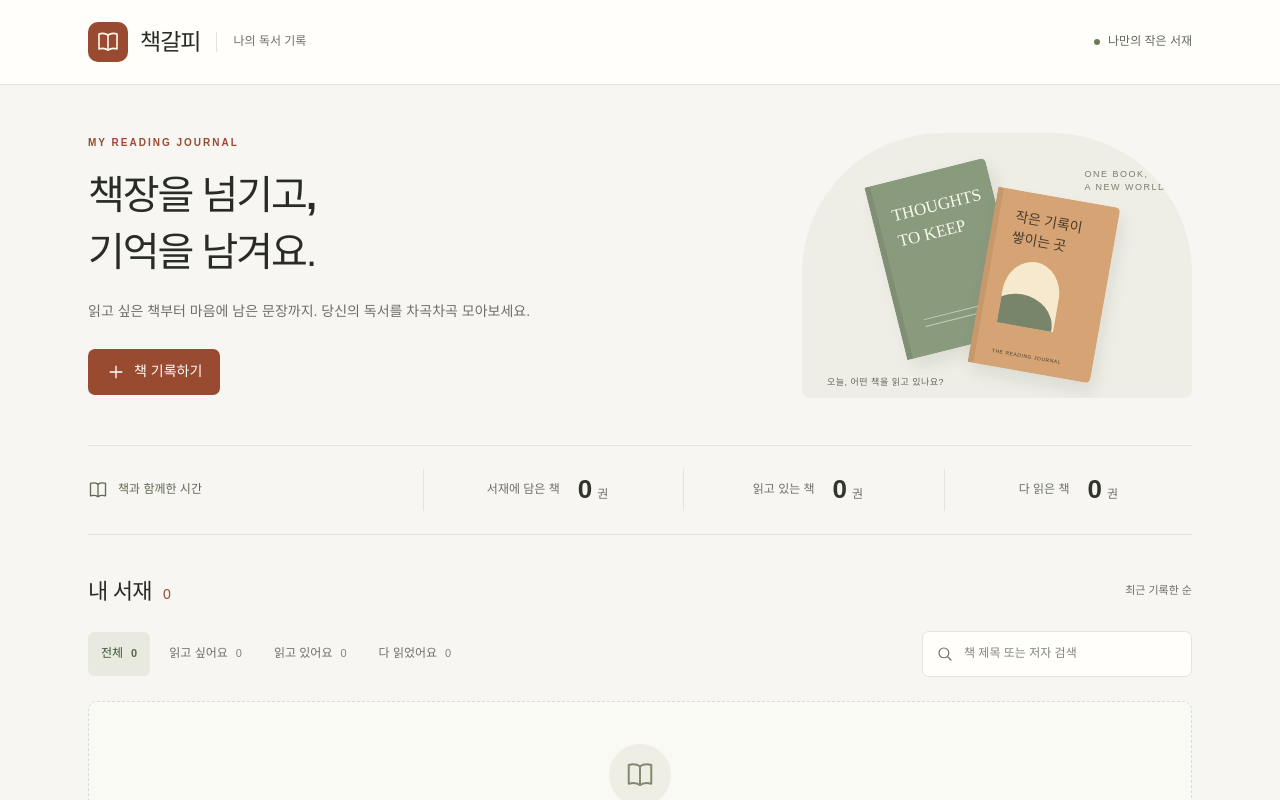
Scenario: 빈 제목 저장 시 필드 오류를 보여주고 입력으로 포커스를 돌린다
This screenshot has width=1280, height=800.
Click the button "책 기록하기".
click(154, 372)  # box [88,349,220,395]
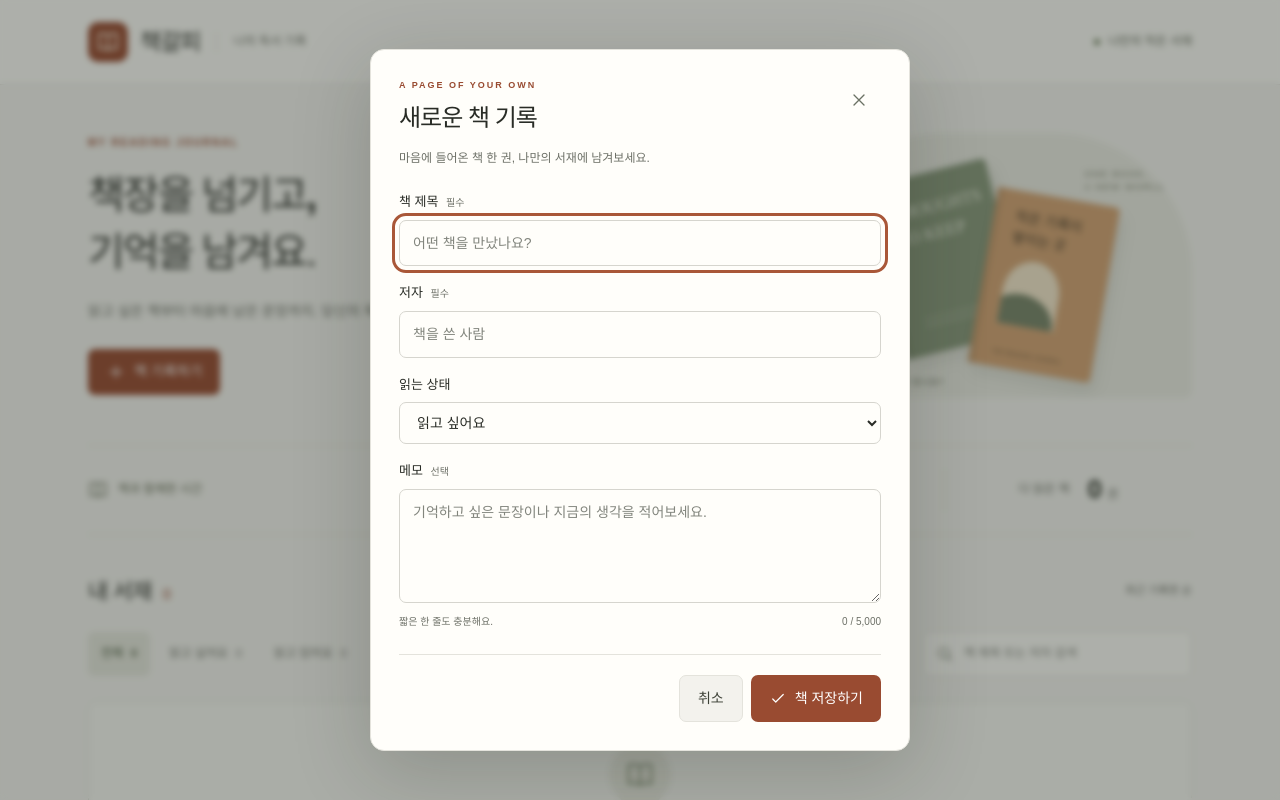
Click the button "책 저장하기".
click(816, 698)  # box [751,675,881,722]
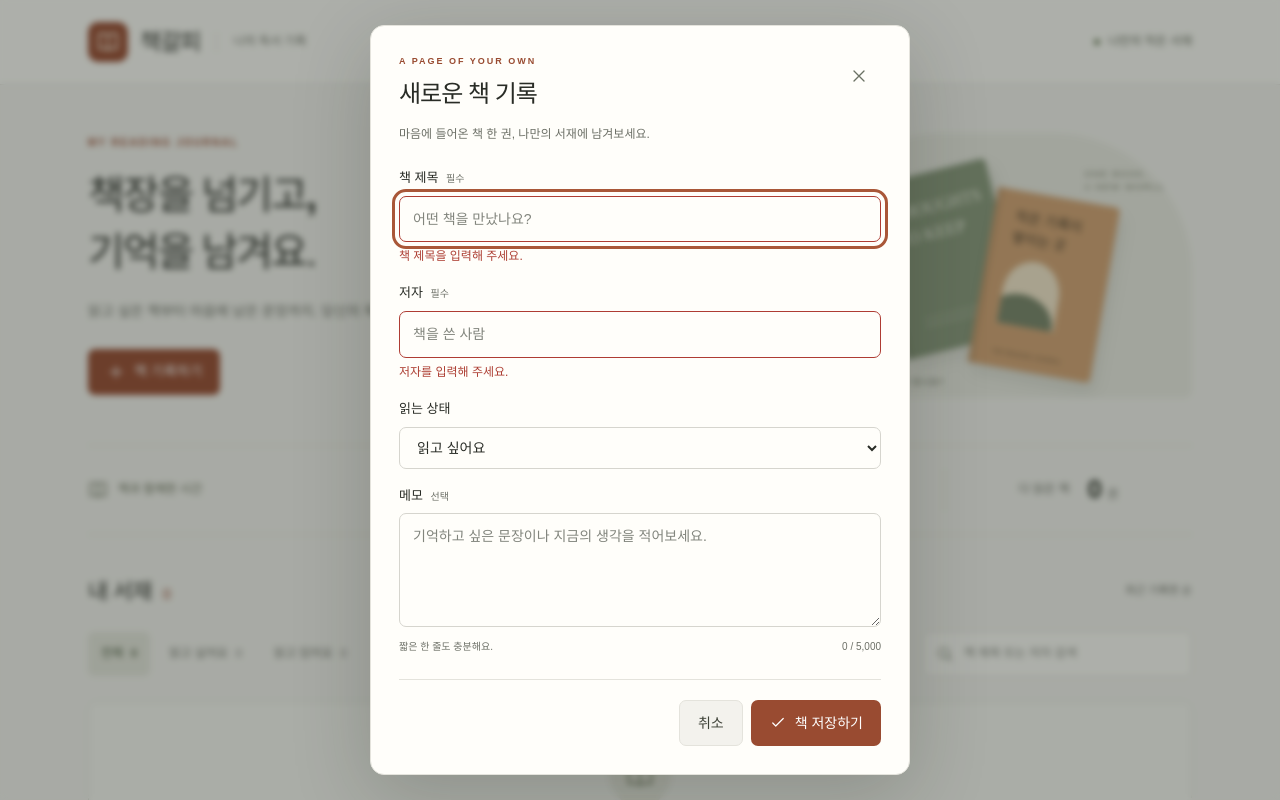
Expected: the text "책 제목을 입력해 주세요." is shown, [399,249,523,263]
